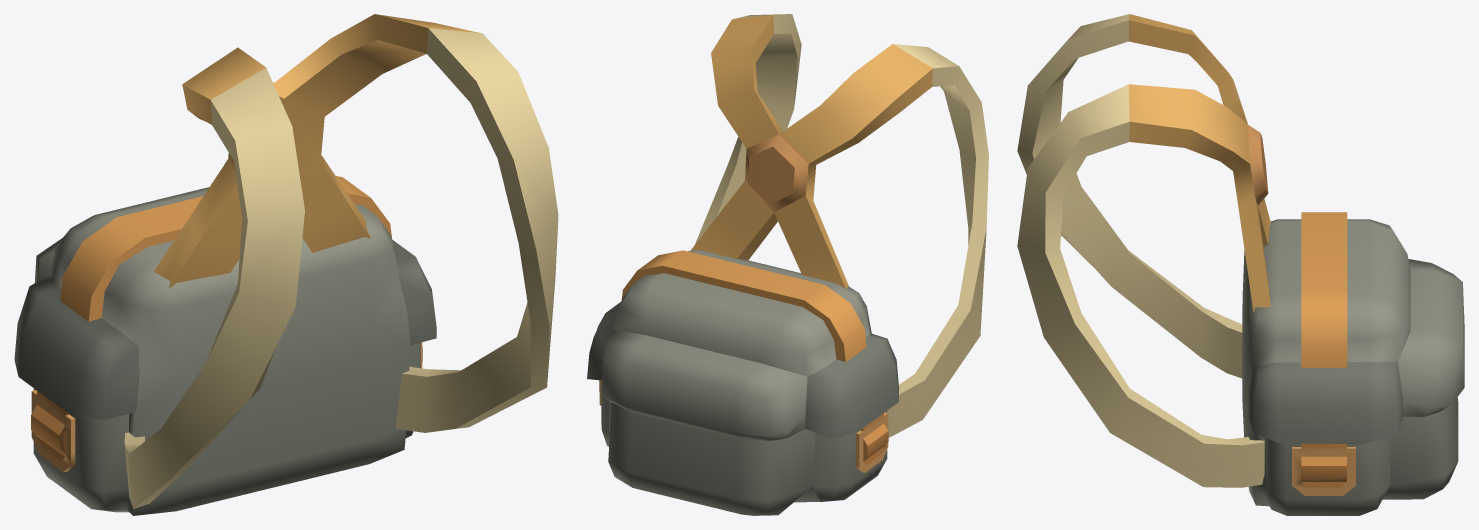
Rendered from Bag_8.fbx.
3 renders of one model, left to right at view 1: azimuth 30°, elevation 25°; view 2: azimuth 150°, elevation 25°; view 3: azimuth 270°, elevation 25°, orthographic. The views are drawn at different scales.
Parts seen in each view (by area): view 1: Bag_8; view 2: Bag_8; view 3: Bag_8.
Part boxes in pixels (left/top/right/bottom): Bag_8: left=14, top=14, right=558, bottom=515; Bag_8: left=587, top=14, right=988, bottom=515; Bag_8: left=1017, top=14, right=1464, bottom=515.
Size of the model in its own units: 45.52 by 58.9 by 57.7.
